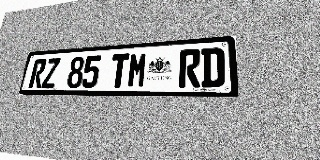5: (81, 55, 102, 88)
8: (66, 56, 86, 88)
D: (201, 47, 225, 88)
M: (127, 52, 148, 88)
R: (178, 49, 201, 88), (28, 59, 47, 88)
T: (109, 53, 130, 88)
Z: (41, 58, 61, 88)
